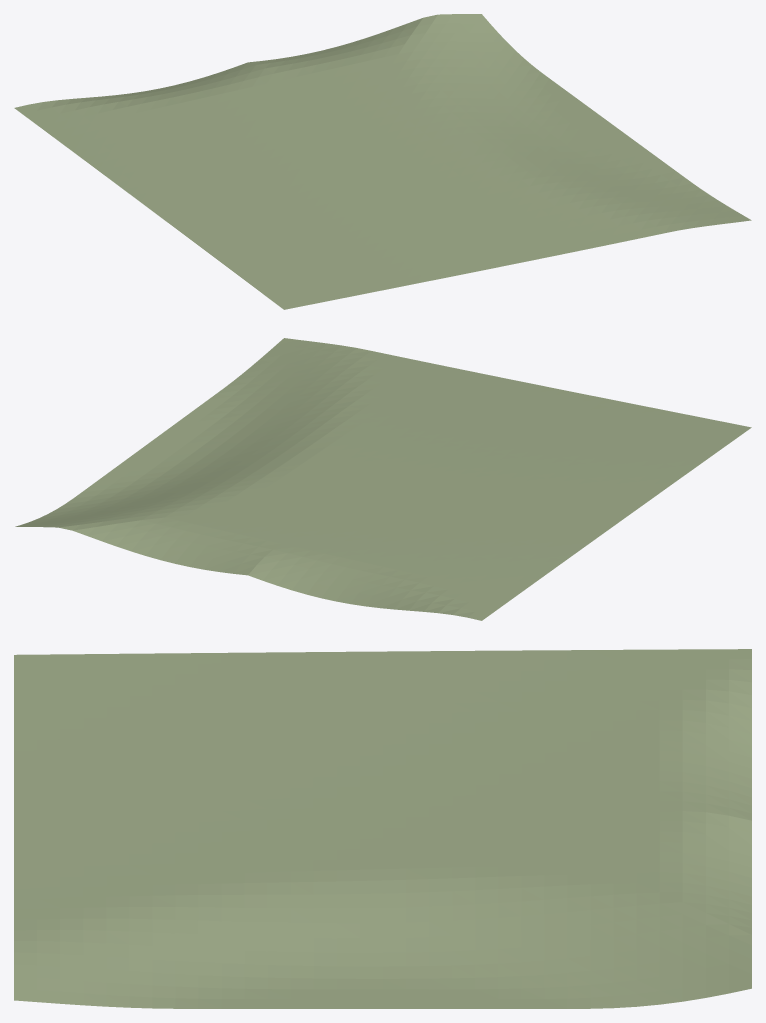
File: gardens-0-4.glb
3 views of the same model, one above another, from view 1: azimuth 30°, elevation 25°; view 2: azimuth 150°, elevation 25°; view 3: azimuth 270°, elevation 25° (orthographic). The views are drawn at different scales.
Visible parts, largest first — view 1: gardens-0-4; view 2: gardens-0-4; view 3: gardens-0-4.
Boxes of the visible parts, x1,y1,x2,y2 form: gardens-0-4: (14,14,751,309); gardens-0-4: (15,338,751,620); gardens-0-4: (14,649,751,1008).
Size of the model in its own units: 256 by 18.34 by 256.
